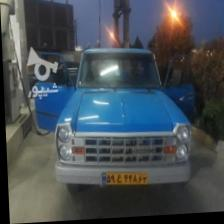plate: (98, 171, 146, 188)
